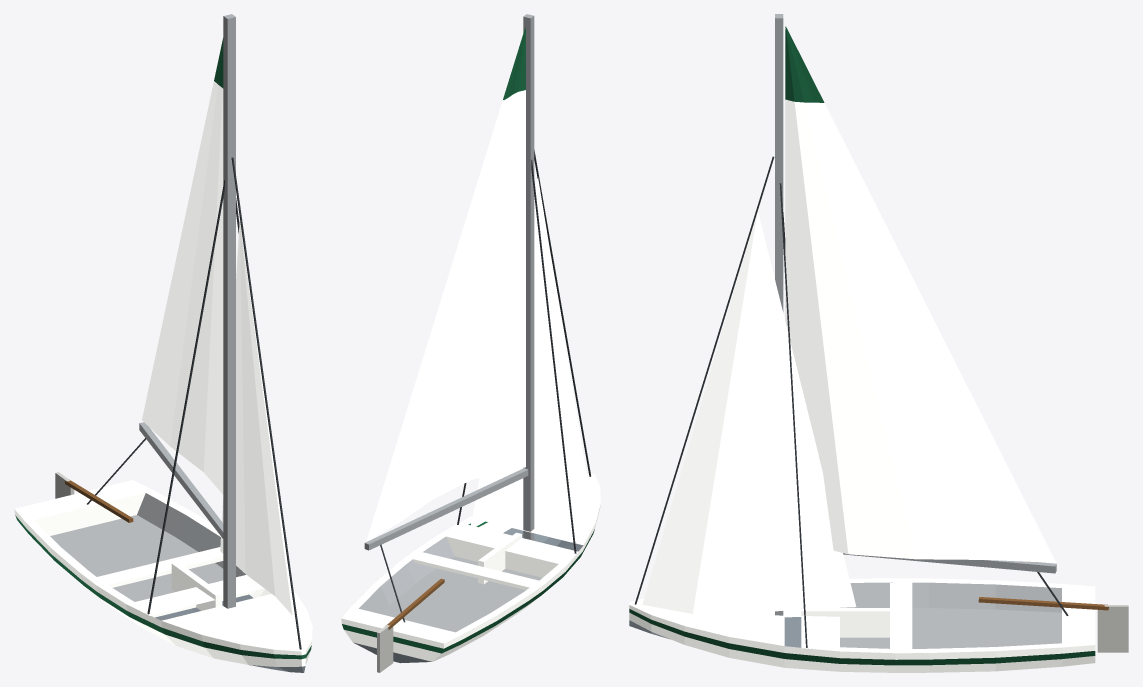
The model's file is sailboat-green.glb.
3 renders of one model, left to right at view 1: azimuth 30°, elevation 25°; view 2: azimuth 150°, elevation 25°; view 3: azimuth 270°, elevation 25°, orthographic. The views are drawn at different scales.
Parts seen in each view (by area): view 1: sailboat-green; view 2: sailboat-green; view 3: sailboat-green.
Boxes of the visible parts, bbox=[...] form: sailboat-green: bbox=[14, 14, 312, 672]; sailboat-green: bbox=[341, 14, 600, 672]; sailboat-green: bbox=[629, 14, 1128, 672].
Bounding box in the file's own units: 1.6 × 6.36 × 4.5.
